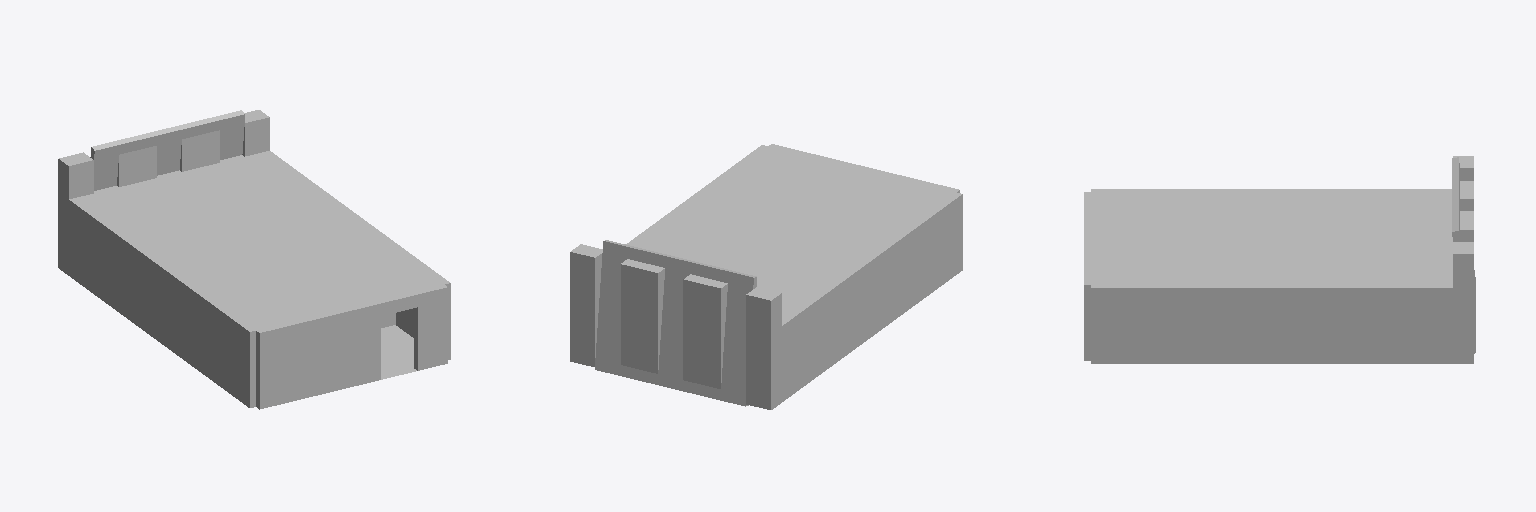
Rendered from LC_room1_archive.obj.
3 views of the same model, side by side, from view 1: azimuth 30°, elevation 25°; view 2: azimuth 150°, elevation 25°; view 3: azimuth 270°, elevation 25° (orthographic).
Parts seen in each view (by area): view 1: LC_room1_archive; view 2: LC_room1_archive; view 3: LC_room1_archive.
Part boxes in pixels (left/top/right/bottom): LC_room1_archive: left=58, top=110, right=450, bottom=409; LC_room1_archive: left=570, top=144, right=962, bottom=409; LC_room1_archive: left=1084, top=156, right=1475, bottom=363.
Bounding box in the file's own units: 10.31 × 6.09 × 17.41.